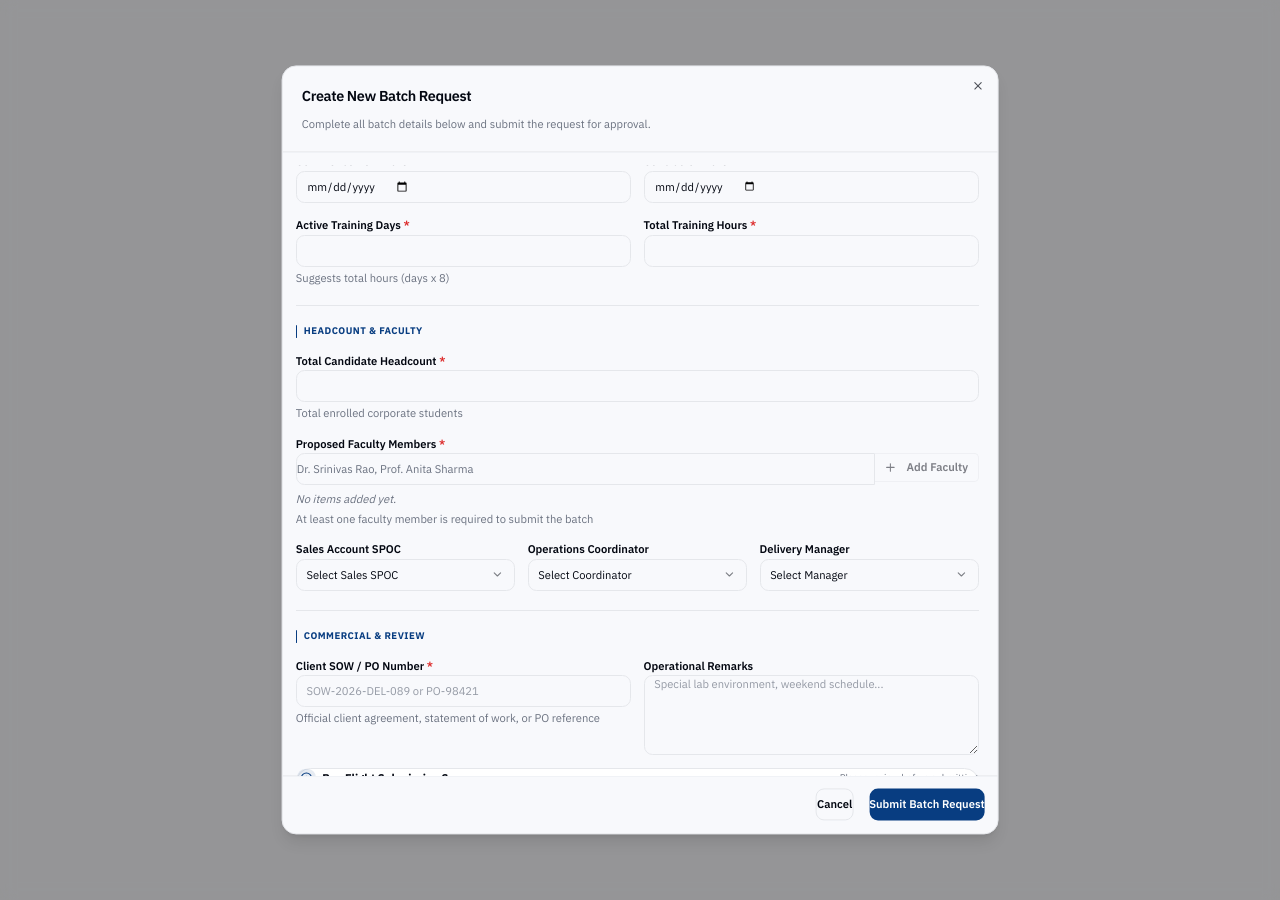
Test: CreateBatchModal faculty chip field › removes a faculty chip without crashing
This screenshot has width=1280, height=900.
(page scrolled)
Type "Dr. Rao" into the field labelled "Proposed Faculty Members *".
click(585, 470); type("Dr. Rao")  # box [295,454,874,486]
Then press Enter
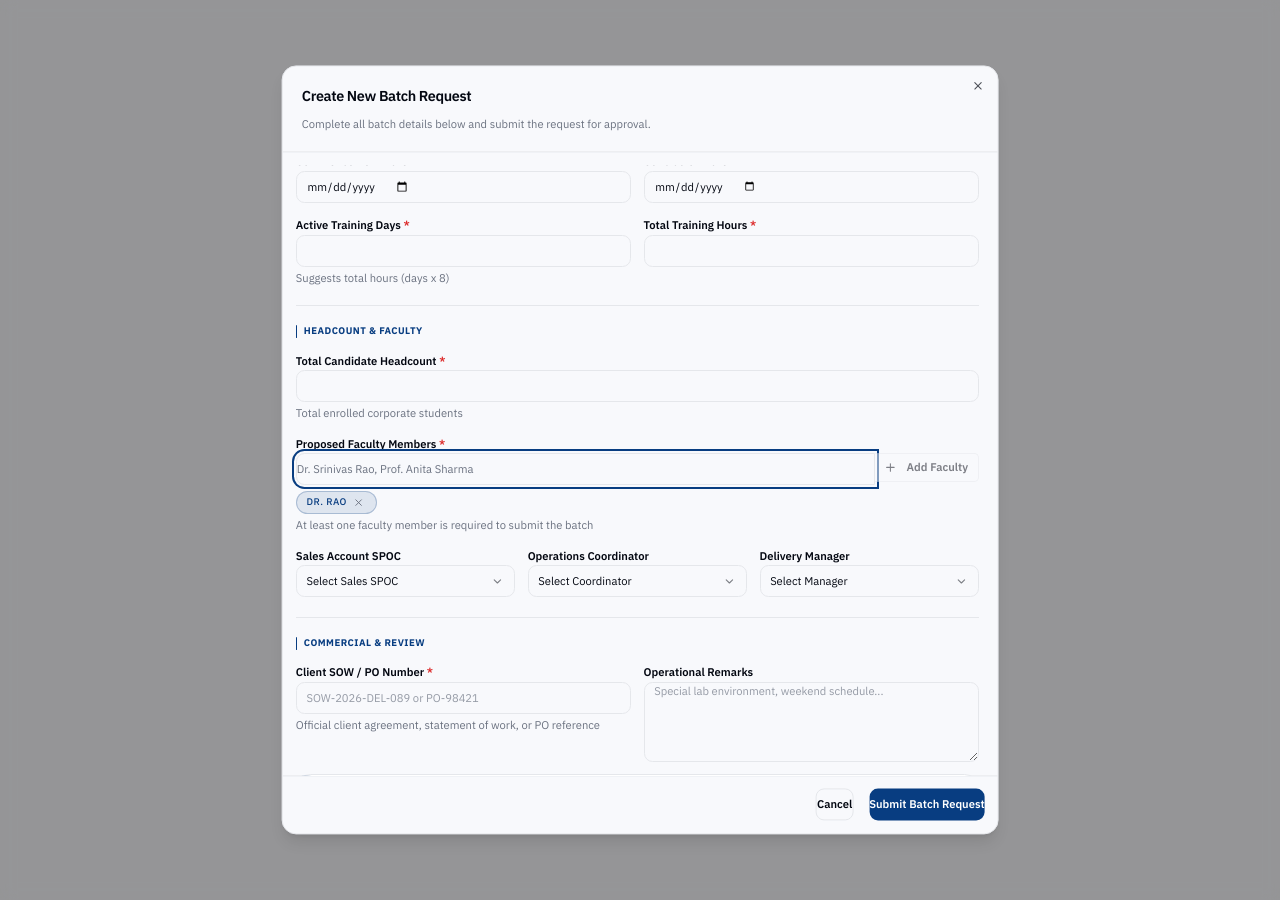
Click the button named "Remove Dr. Rao".
click(358, 503)  # box [351,496,366,510]
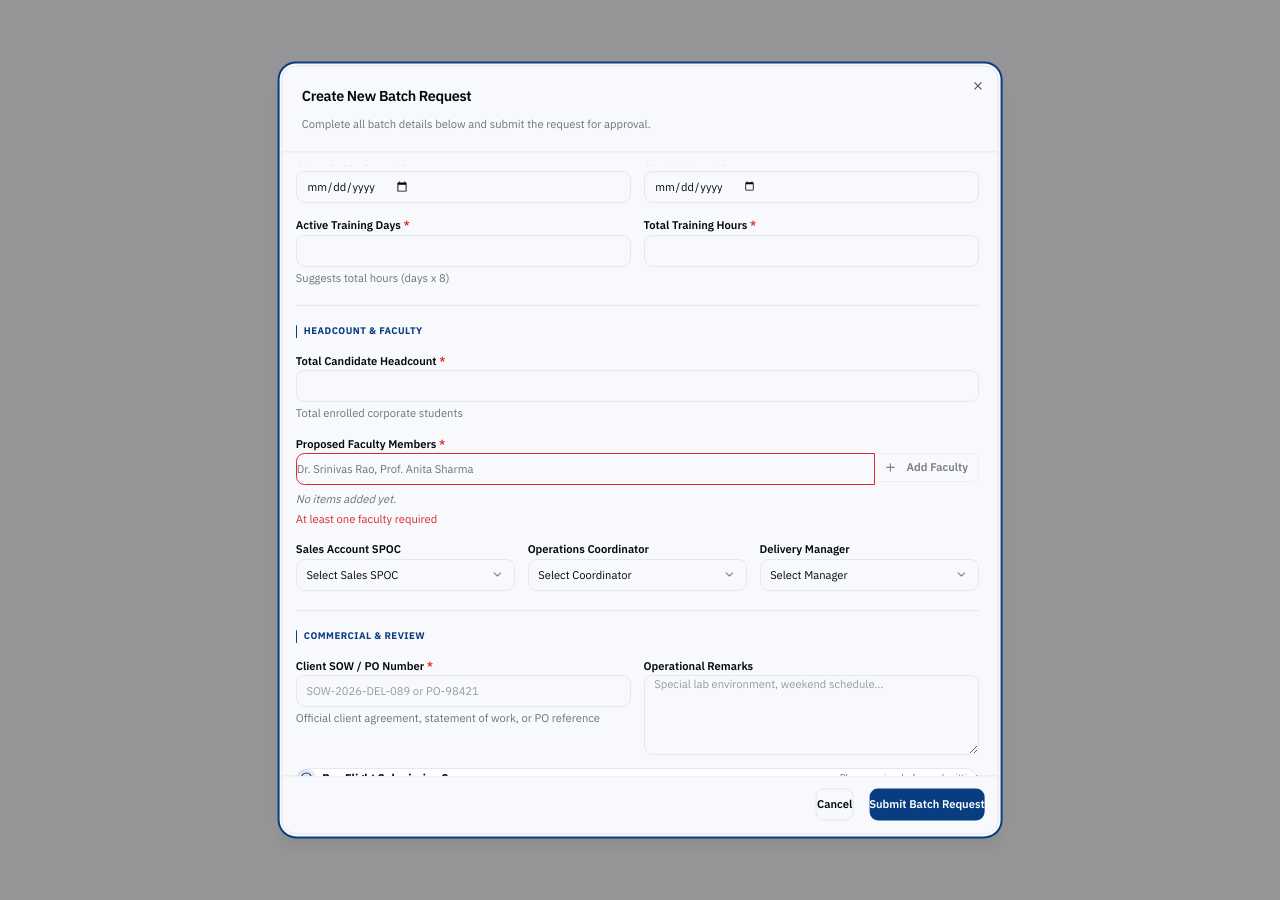
Expected: the text "No items added yet." is shown, [295,493,396,507]
